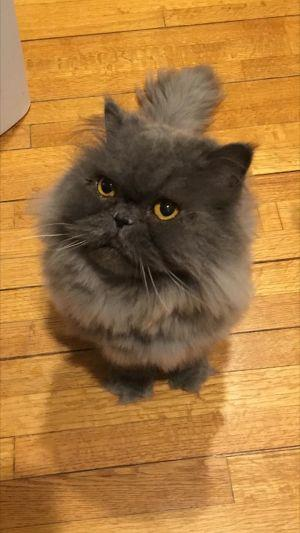persian: (41, 95, 267, 300)
